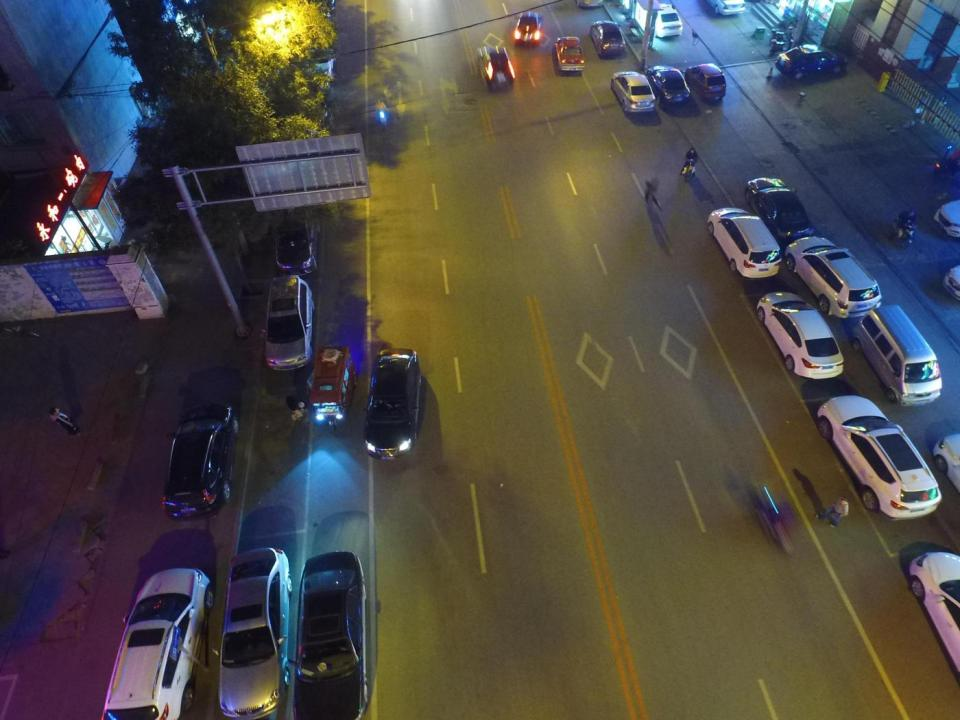car: (106, 567, 210, 720), (818, 395, 941, 520), (219, 546, 293, 718), (296, 553, 374, 715), (164, 404, 238, 522), (785, 236, 881, 319), (757, 292, 844, 379), (366, 349, 423, 464), (910, 548, 959, 673), (709, 207, 780, 278), (745, 177, 814, 243), (266, 280, 313, 372), (271, 209, 319, 285), (295, 28, 339, 89), (774, 45, 847, 80), (612, 67, 656, 112), (479, 44, 518, 89), (684, 63, 726, 100), (590, 19, 627, 57), (647, 2, 686, 38), (555, 34, 584, 78), (515, 10, 543, 49), (709, 0, 746, 15)
van: (852, 305, 942, 407)
